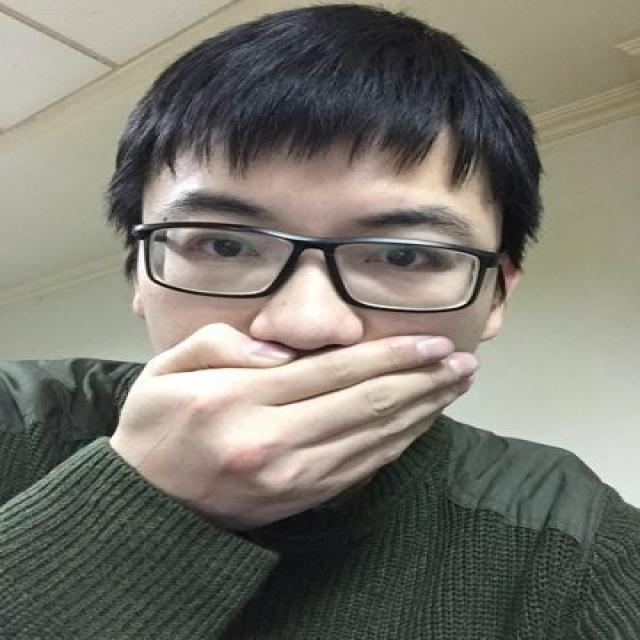nomask: (135, 169, 487, 482)
